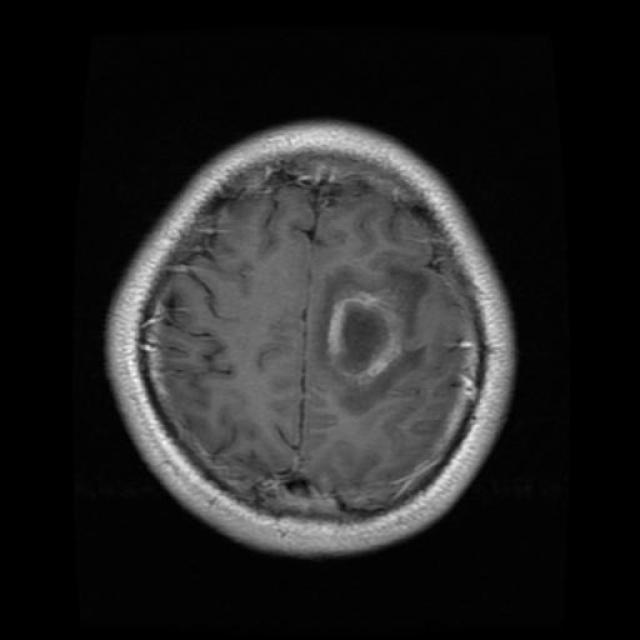brain_tumor: (329, 298, 389, 377)
